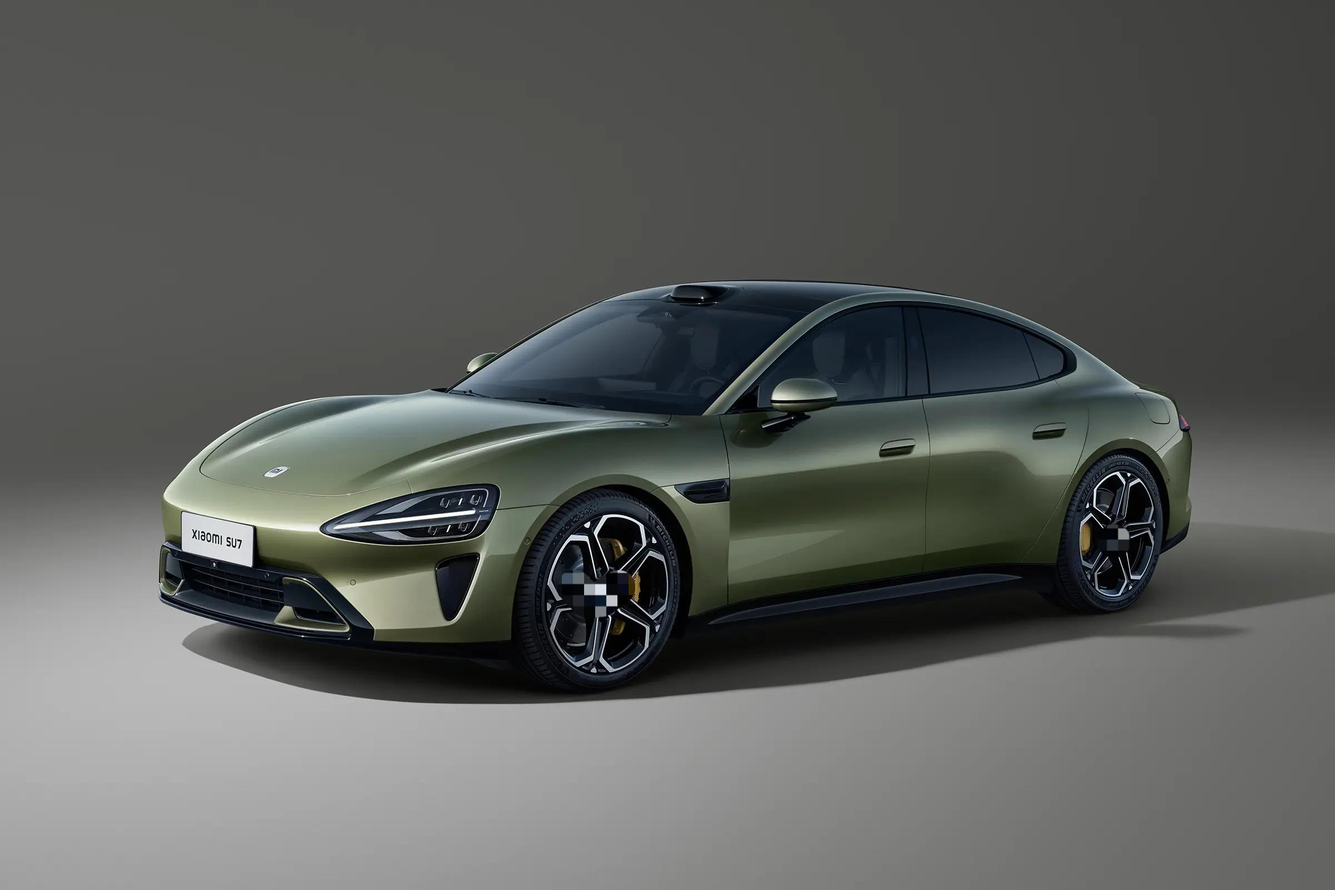XIAOMI: (264, 466, 289, 477)
